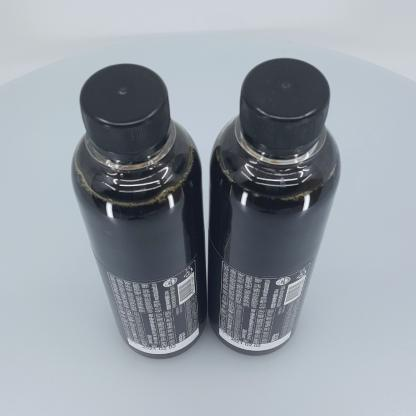--------------300ML: (71, 63, 208, 359), (208, 58, 341, 356)
